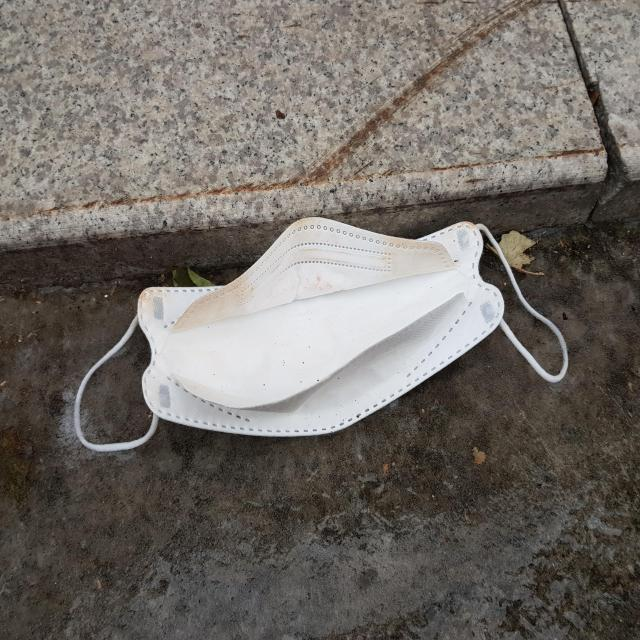khautrang: (72, 218, 569, 455)
